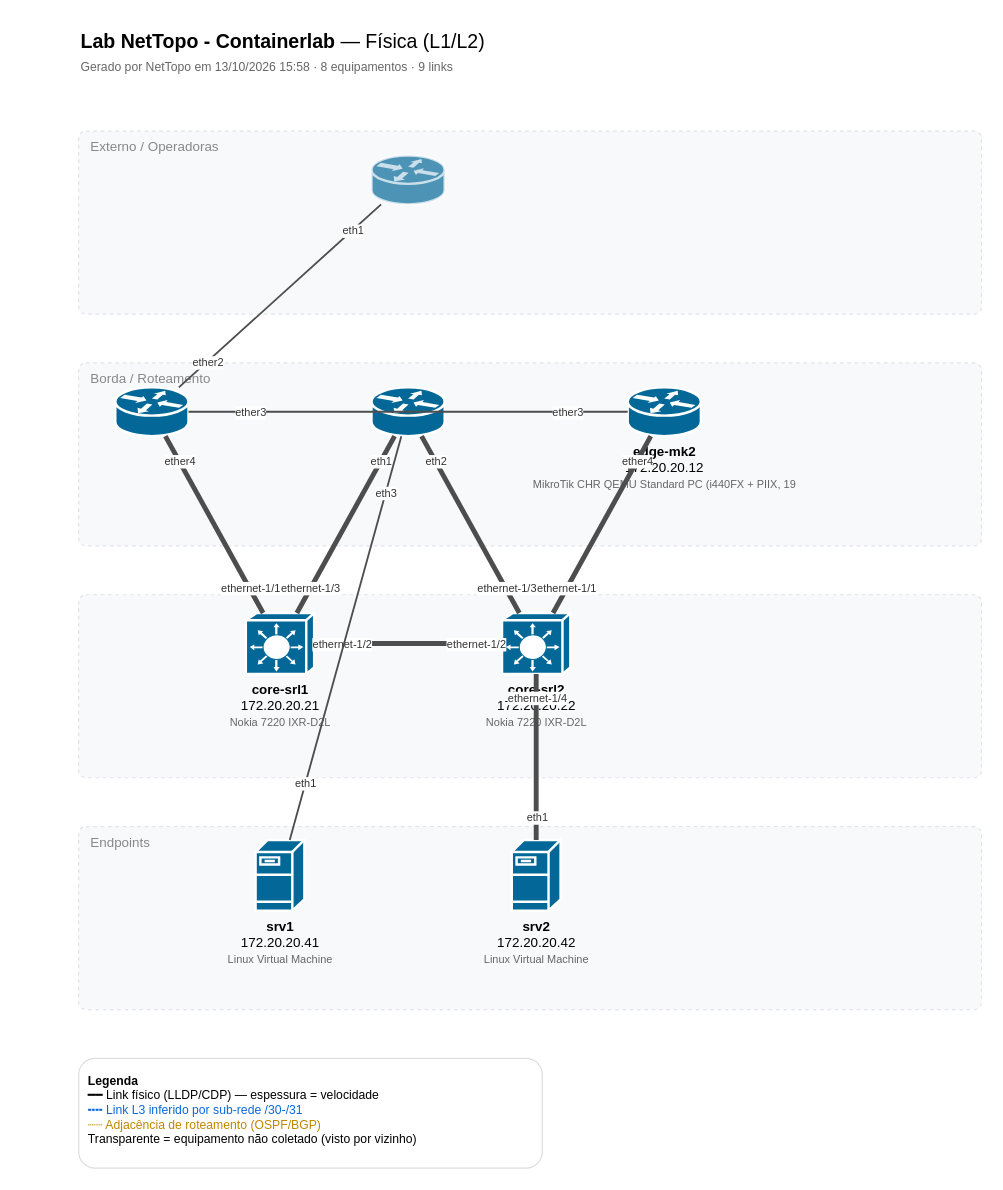
Image size: 1003x1190. Some labels were removed from this diagram. Here are the shapes that lost their labels. From the top down, the box of each, then its label:
(370, 154, 445, 205): isp-pe 172.20.20.2 Linux
(113, 386, 189, 437): edge-mk1 172.20.20.11 MikroTik CHR QEMU Standard PC (i440FX + PIIX, 19
(370, 386, 445, 437): dist-frr1 172.20.20.31 Linux Virtual Machine
(77, 594, 981, 778): Núcleo (Core)
